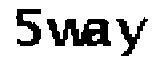5: (11, 5, 45, 50)
a: (88, 17, 116, 51)
w: (45, 15, 85, 51)
y: (116, 13, 153, 60)
